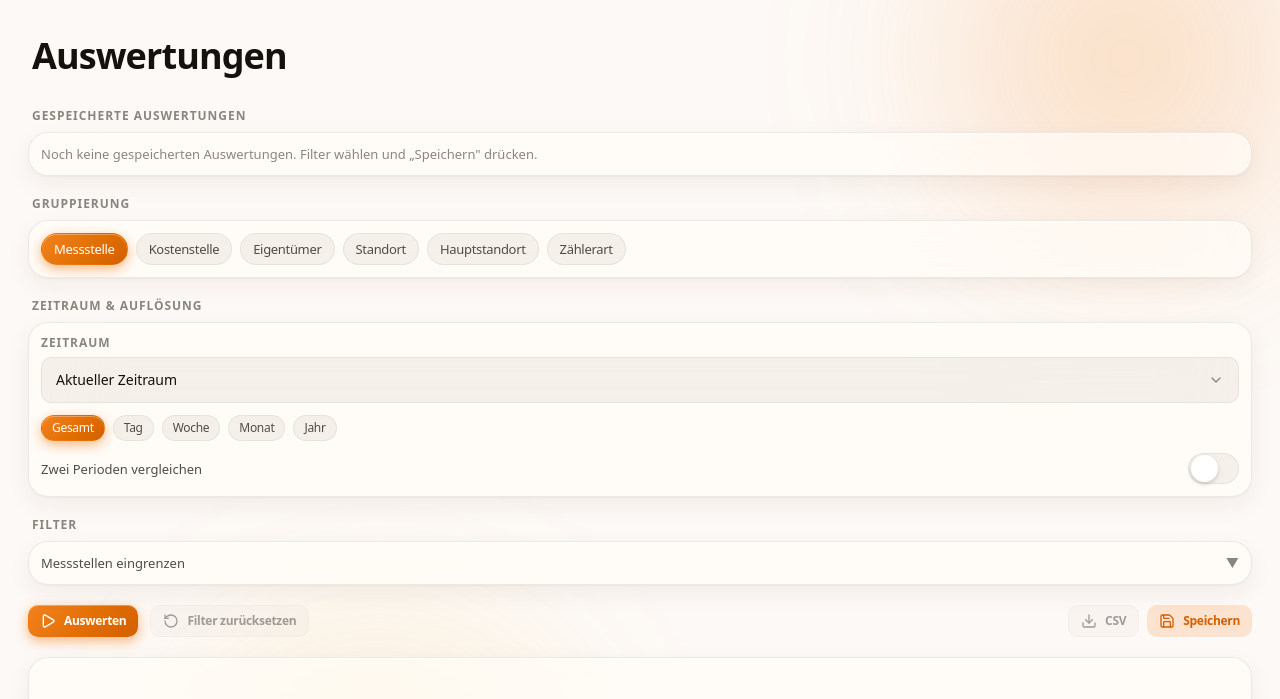
Test case: ReportsPage — explizites Auswerten › Filteränderung lädt nicht neu, sondern zeigt den Stale-Hinweis bis zum nächsten Lauf
Click the button "Auswerten": (83, 621) [28,605,138,637]
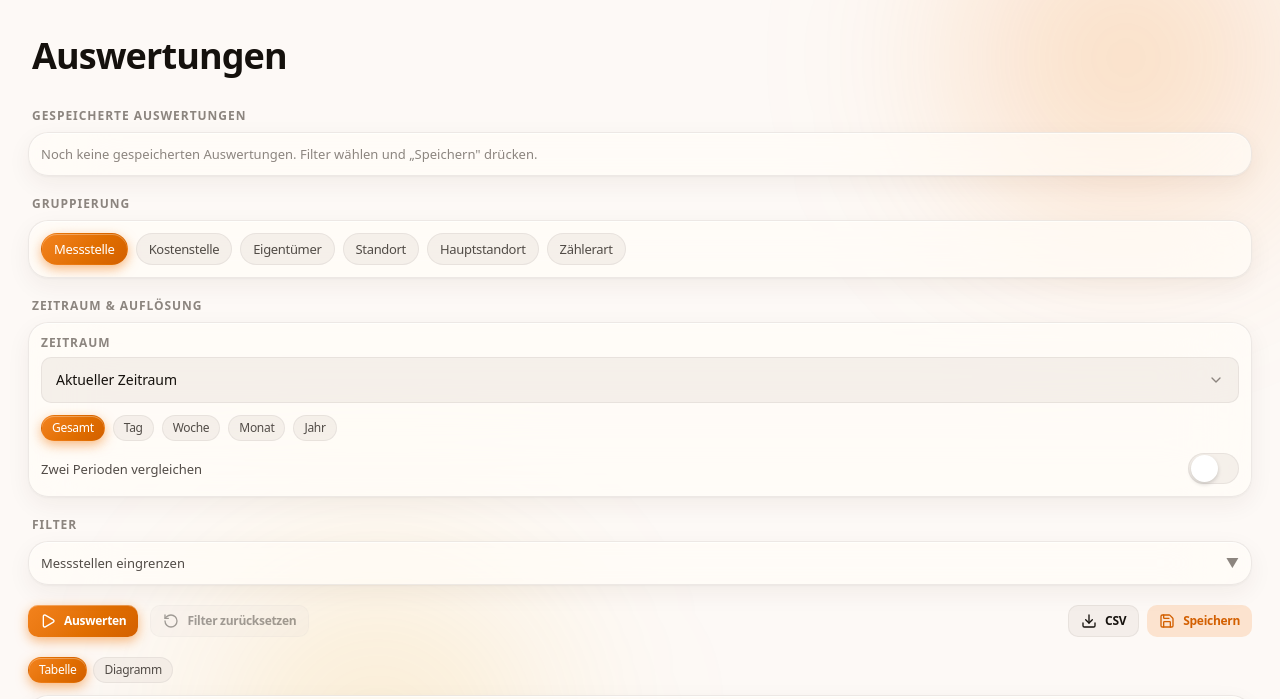
Expected: the text "erneut auswerten" is not shown
Click the button "Eigentümer": (287, 249) [240,233,334,265]
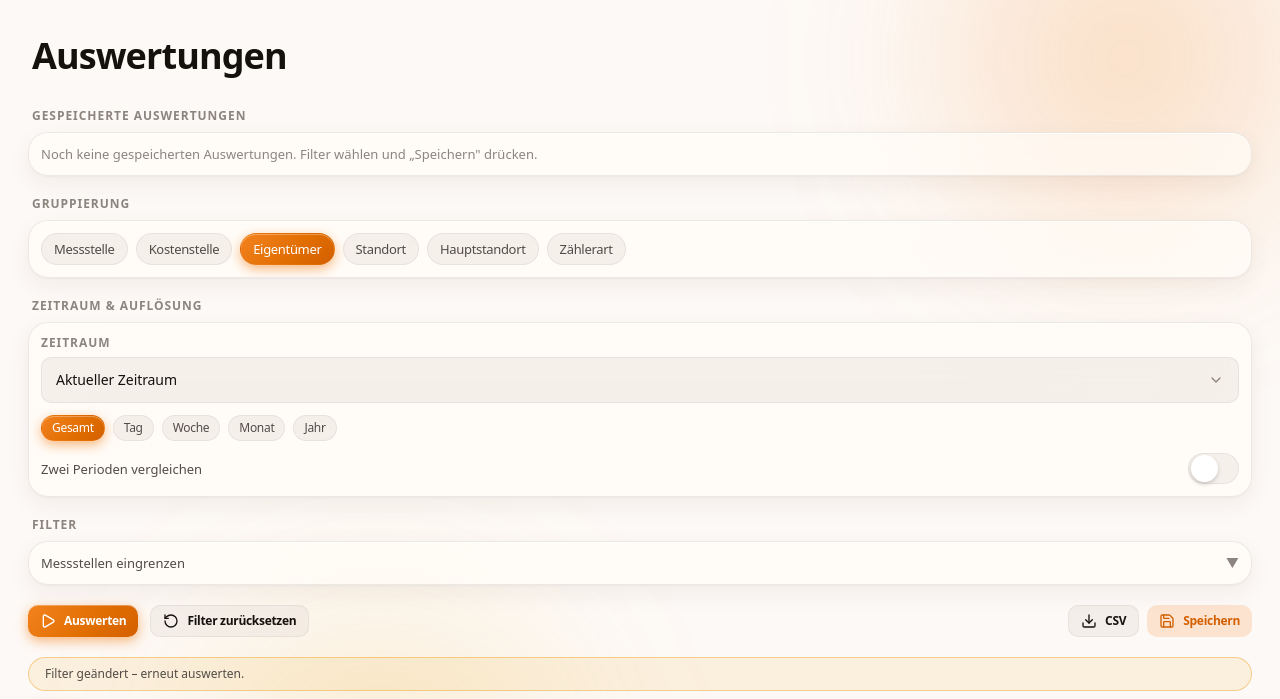
Result: the text "Filter geändert – erneut auswerten." is shown at [28,657,1252,691]
Click the button "Auswerten": (83, 621) [28,605,138,637]
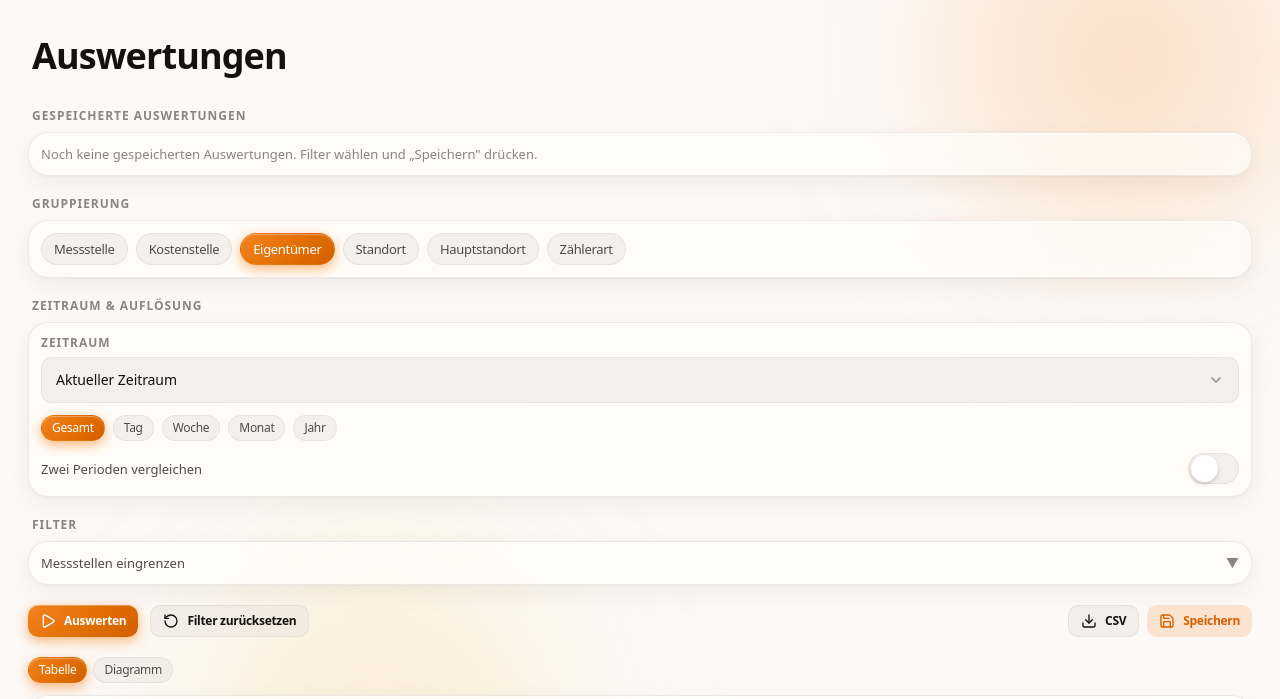
Result: the text "erneut auswerten" is gone
